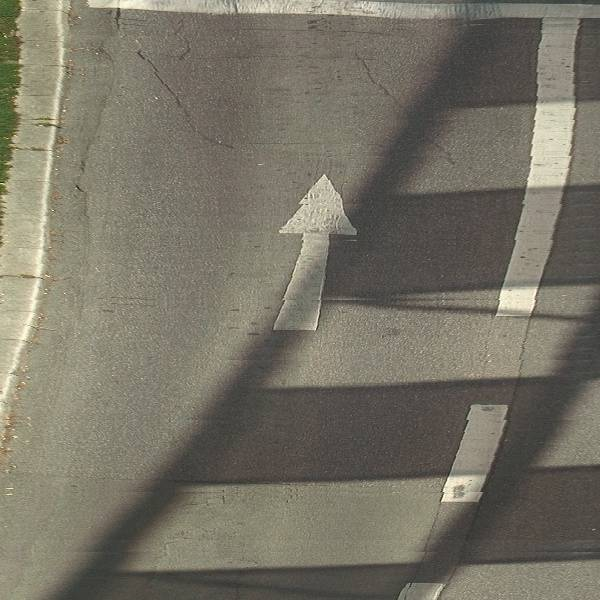road_damage: (129, 42, 241, 156)
